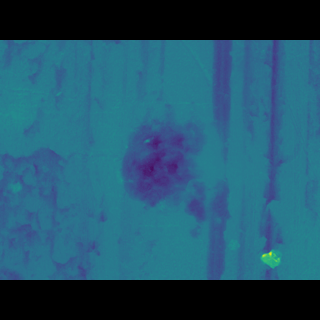Loch: (0, 98, 259, 228)
